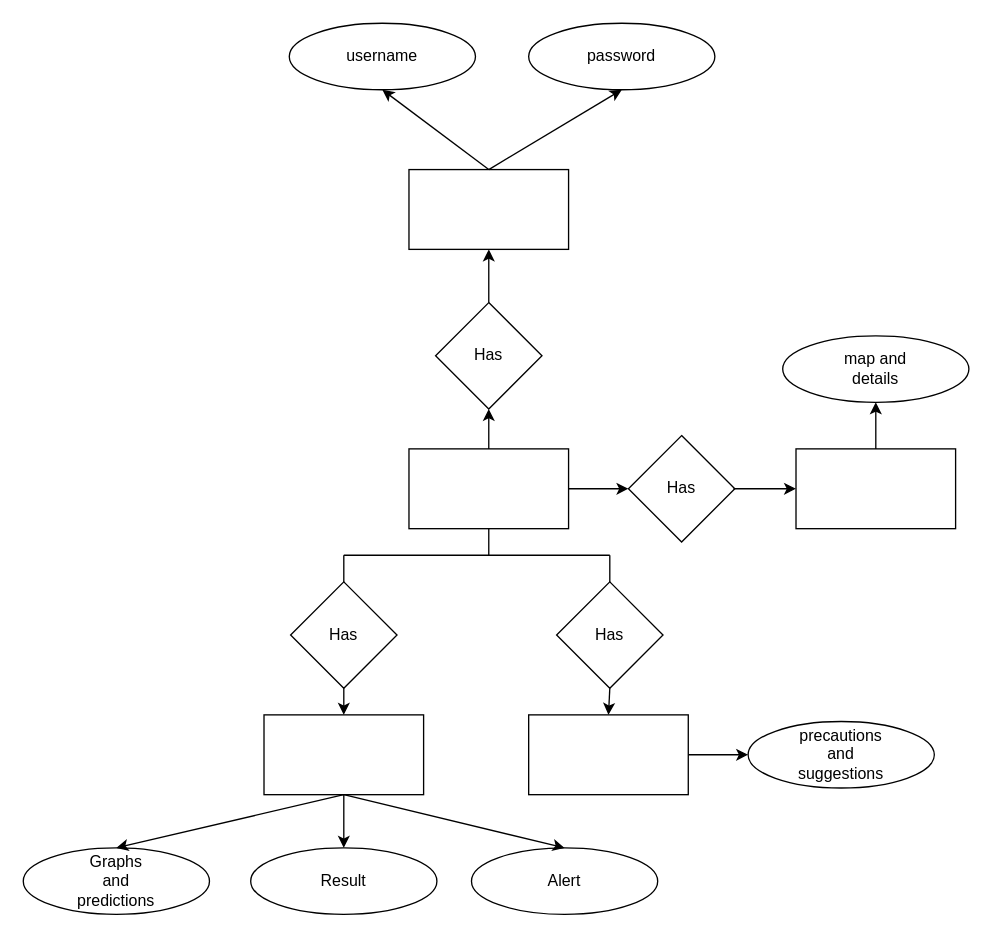
The diagram is 992 pixels wide and 938 high, and some of its shapes have lost their labels. Here are the shapes that lost their labels. From the top down, the centre of each, then its label:
At [488,208]: "Signup/Login".
At [488,488]: "User".
At [875,488]: "Dashboard".
At [343,754]: "Predict Pollution".
At [607,754]: "Precautions Page".
